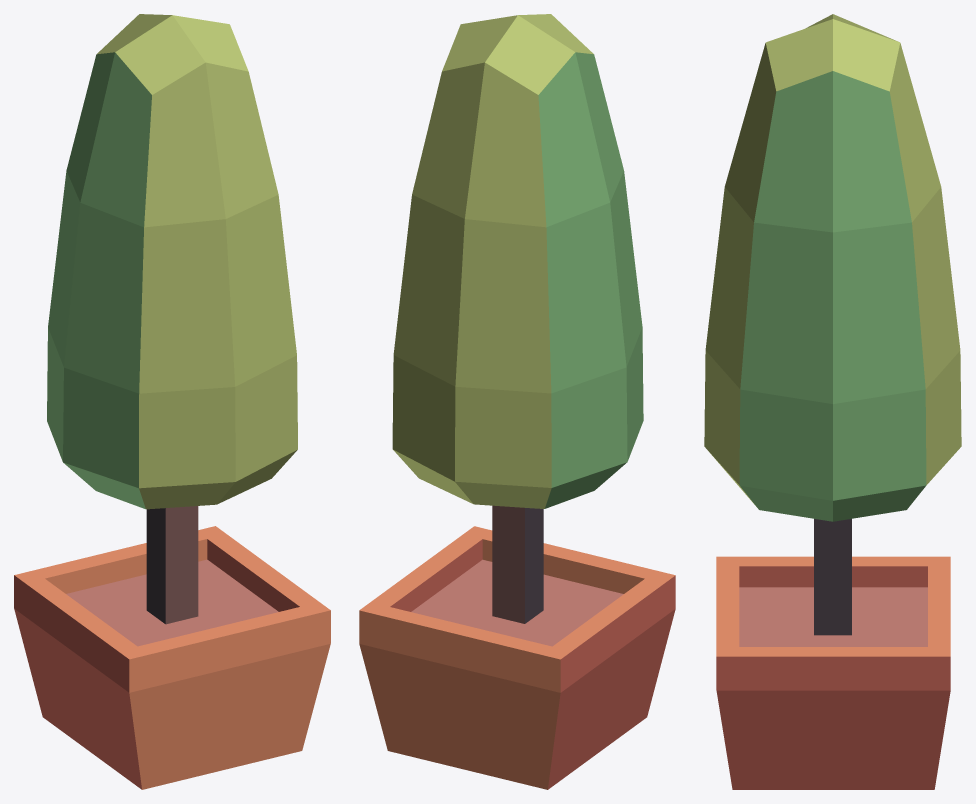
The model's file is Plant 05.fbx.
The picture shows the model from 3 angles, left to right: view 1: azimuth 30°, elevation 25°; view 2: azimuth 150°, elevation 25°; view 3: azimuth 270°, elevation 25°; orthographic projection.
Parts seen in each view (by area): view 1: Plant 05; view 2: Plant 05; view 3: Plant 05.
Boxes of the visible parts, x1,y1,x2,y2 form: Plant 05: [14, 14, 330, 789]; Plant 05: [359, 14, 675, 789]; Plant 05: [704, 14, 961, 789].
Bounding box in the file's own units: 72.66 × 228 × 72.66.
